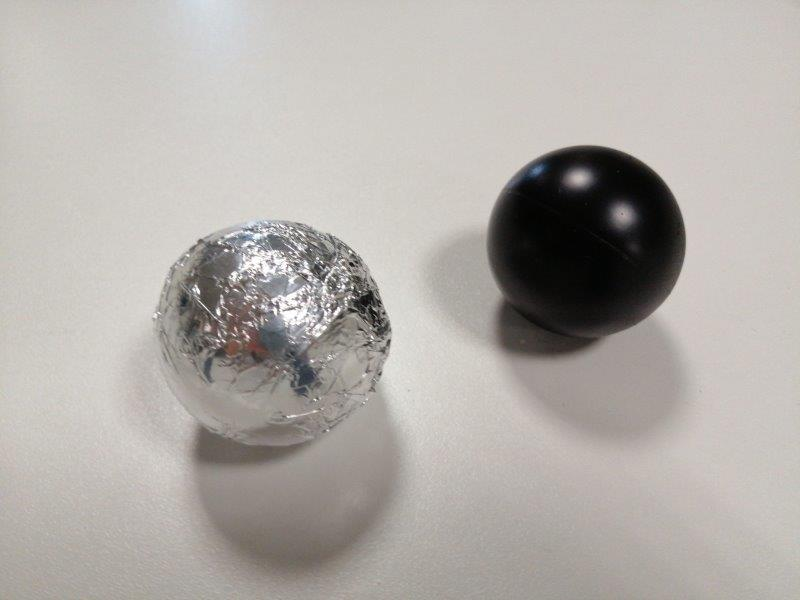bianca: (151, 218, 395, 451)
nera: (486, 144, 687, 339)
